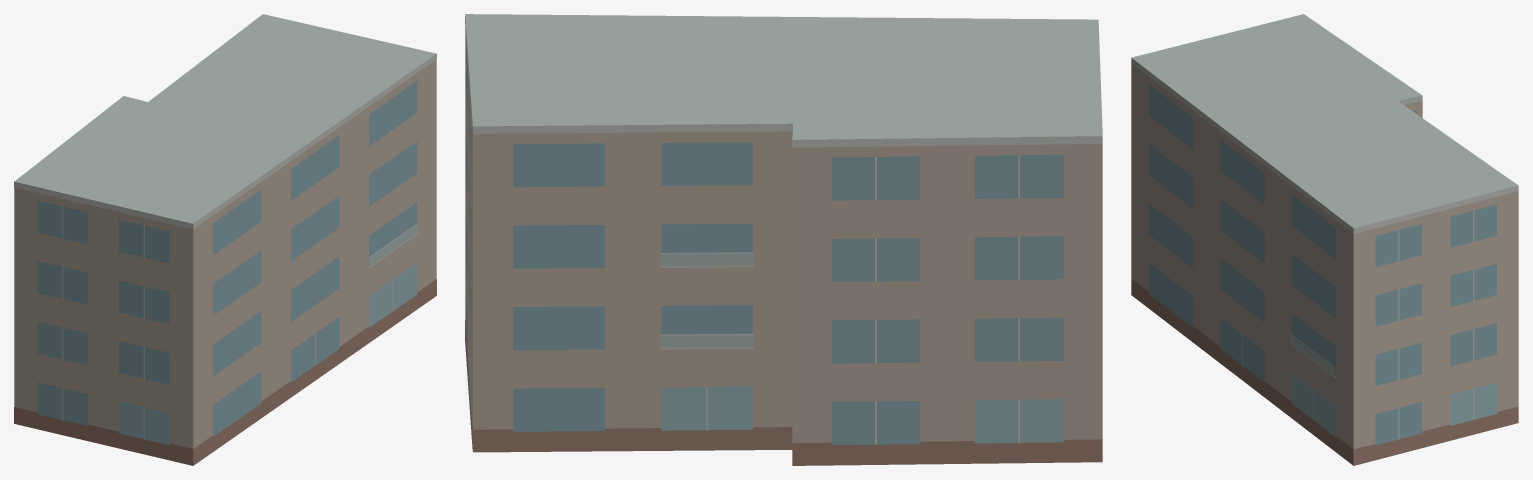
The model's file is survey-upis-32795418.glb.
3 renders of one model, left to right at view 1: azimuth 30°, elevation 25°; view 2: azimuth 150°, elevation 25°; view 3: azimuth 270°, elevation 25°, orthographic. The views are drawn at different scales.
Visible parts, largest first — view 1: survey-upis-32795418.tmp; view 2: survey-upis-32795418.tmp; view 3: survey-upis-32795418.tmp.
Part boxes in pixels (x1,y1,x2,y2): survey-upis-32795418.tmp: (14,14,436,465); survey-upis-32795418.tmp: (465,14,1102,465); survey-upis-32795418.tmp: (1131,14,1518,465).
Bounding box in the file's own units: 20.15 × 10.4 × 15.38.
